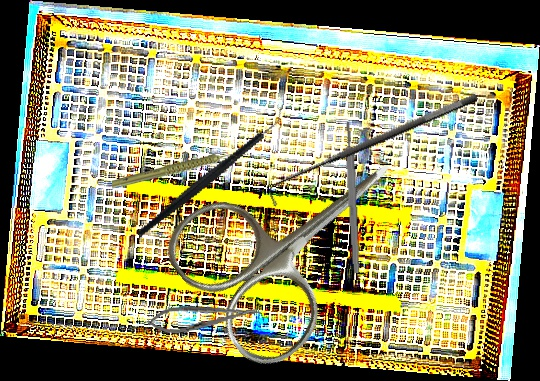Chopper: (113, 104, 307, 240)
Handpiece: (112, 153, 237, 189)
Hook Surgical: (260, 89, 486, 209)
Iris Scissors: (154, 100, 443, 379)
Needle Holder: (146, 298, 260, 337)
Scalpel Handle: (344, 121, 361, 274)
